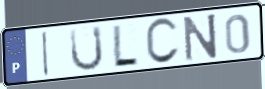0: (223, 13, 253, 55)
C: (143, 16, 181, 67)
I: (41, 29, 51, 78)
L: (111, 23, 140, 68)
N: (182, 11, 220, 64)
U: (69, 24, 105, 73)
